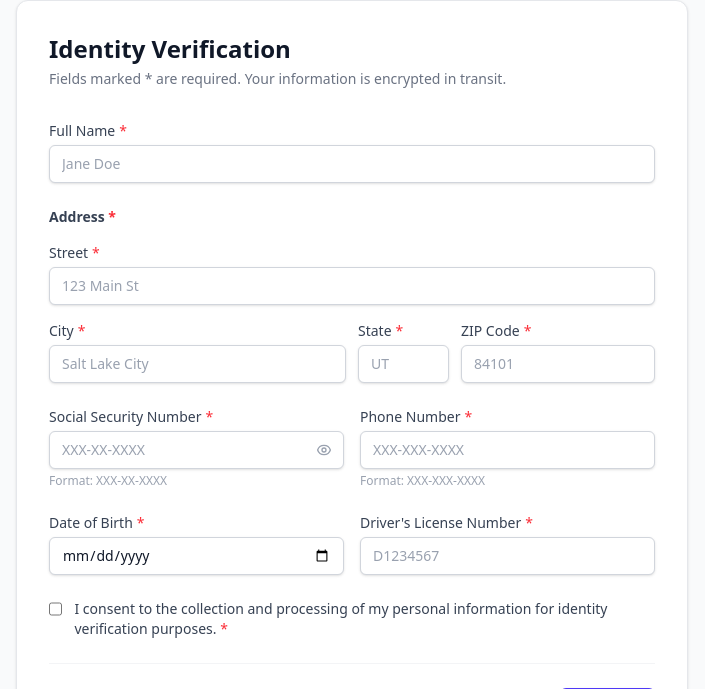
IdentityForm — SSN toggle › SSN value shows bullets (●) with dashes when hidden
Click the button named "show ssn": point(324, 450) [316,442,332,458]
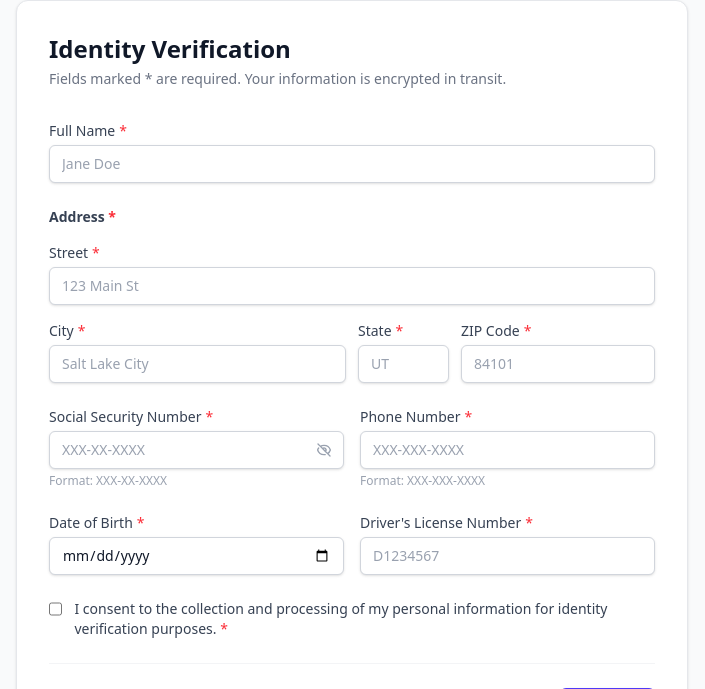
In the field labelled "Social Security Number*": point(196, 450) [49,431,344,469], type "123456789"
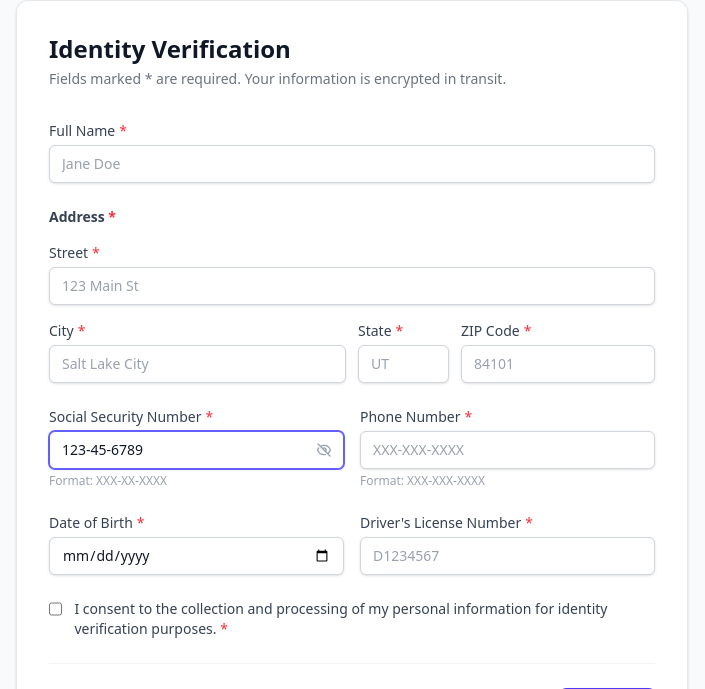
Press Tab
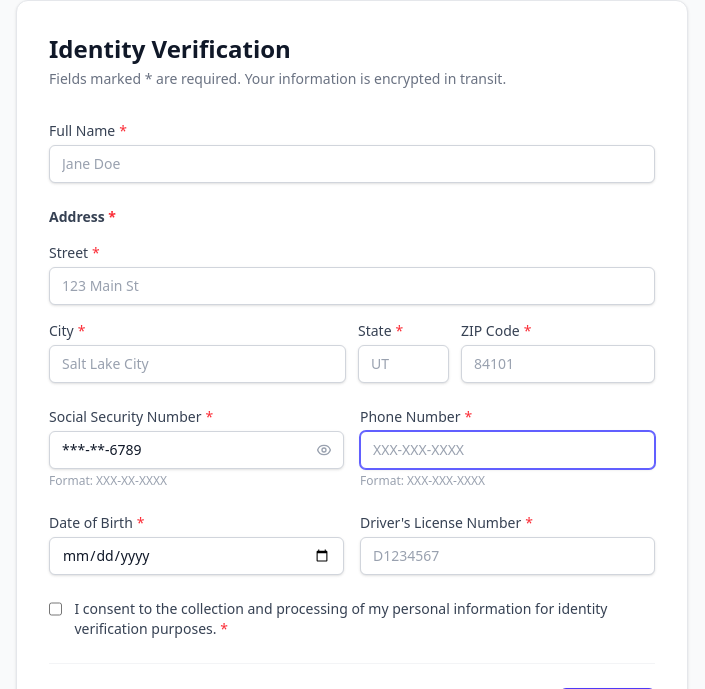
Check: the field labelled "Social Security Number*" holds "***-**-6789", box [49,431,344,469]
